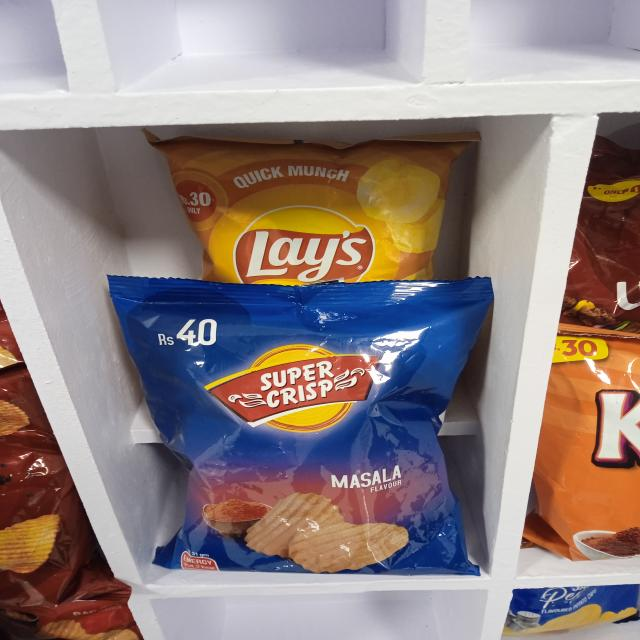Plastic: (121, 282, 466, 576), (170, 140, 458, 280), (537, 324, 640, 556), (576, 141, 638, 314), (509, 590, 634, 636)
